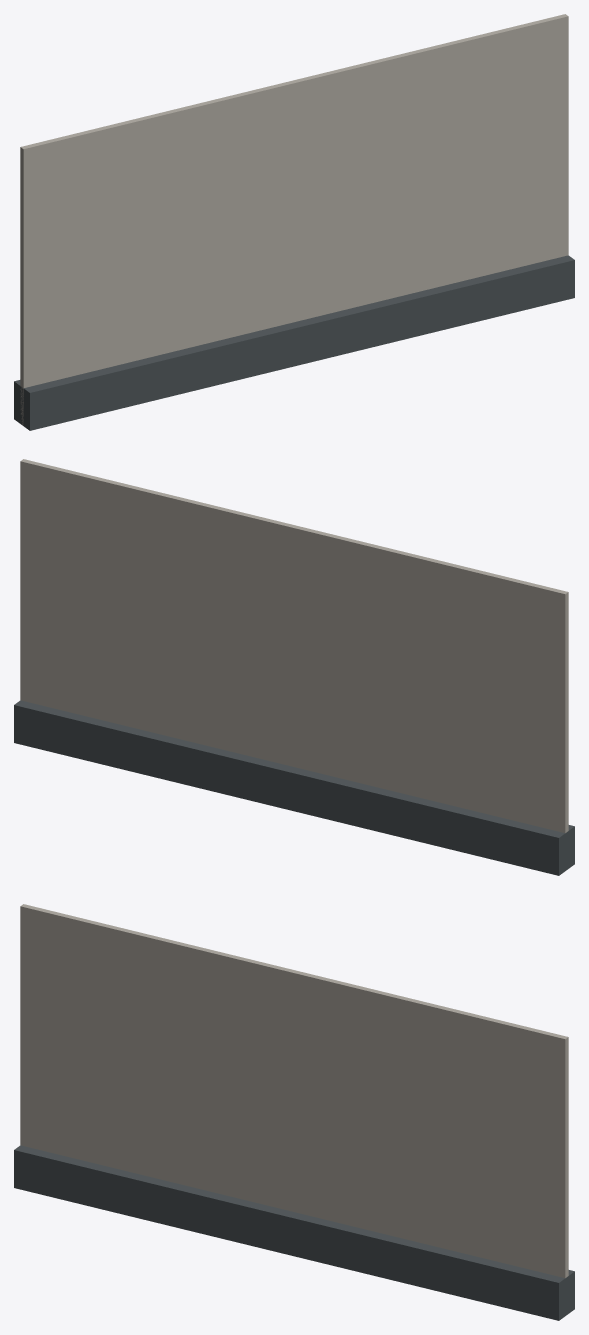
Rendered from Wall_05.fbx.
The picture shows the model from 3 angles, top to bottom: view 1: azimuth 30°, elevation 25°; view 2: azimuth 150°, elevation 25°; view 3: azimuth 330°, elevation 25°; orthographic projection.
Parts seen in each view (by area): view 1: Wall_05; view 2: Wall_05; view 3: Wall_05.
Part boxes in pixels (x1,y1,x2,y2): Wall_05: (14,14,574,430); Wall_05: (14,459,574,875); Wall_05: (14,904,574,1320).
Size of the model in its own units: 5.75 by 2.79 by 0.2921.
